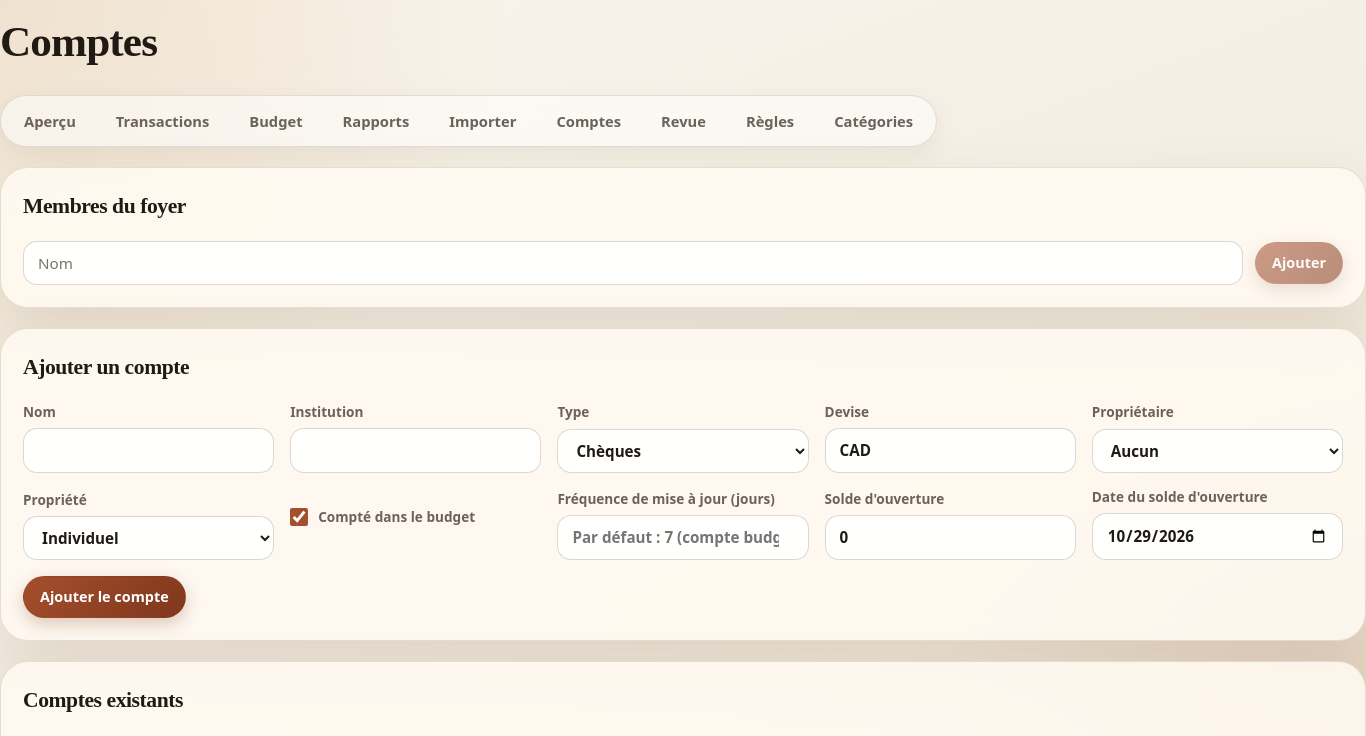
it: FinanceAccountsPage › adds a household member and an account, showing the derived balance
In the field with placeholder "Nom" below "Membres du foyer": (633, 263) [23, 240, 1243, 285], type "Alex"
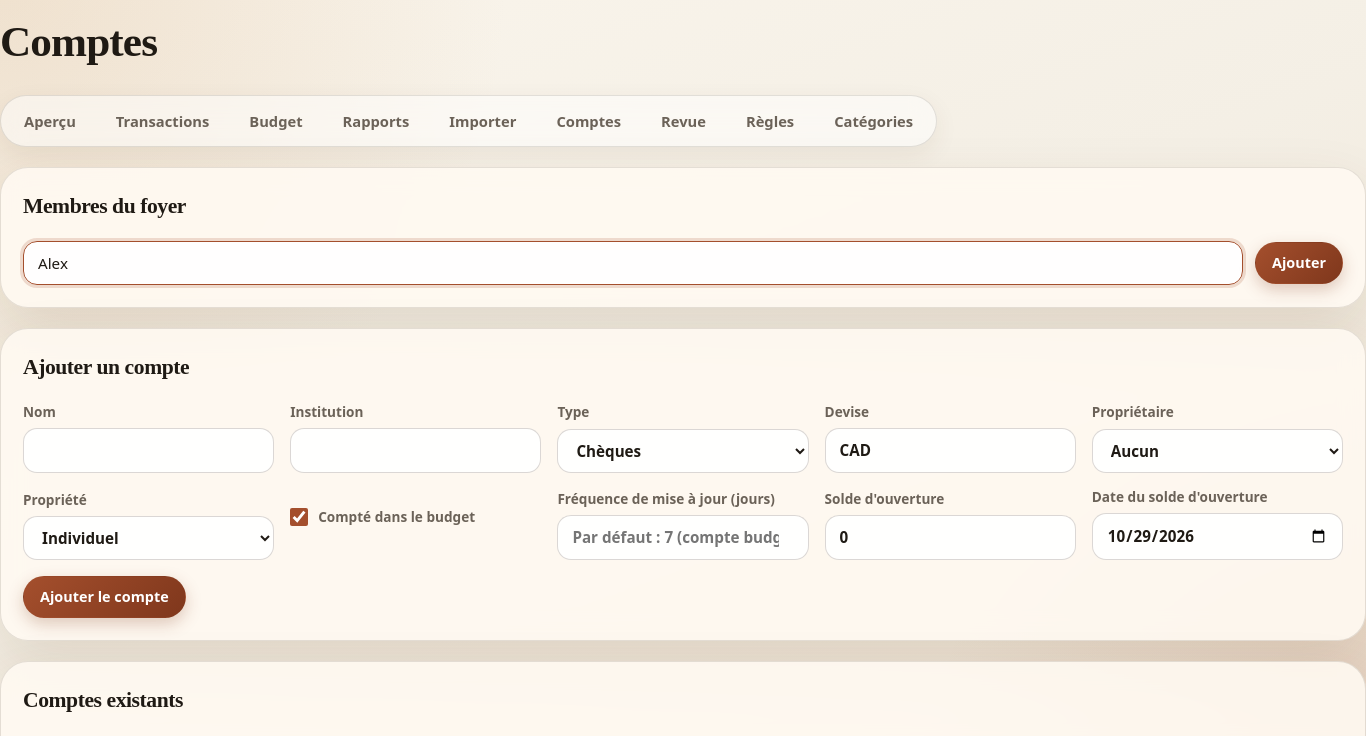
Click the button "Ajouter": (1299, 263) [1255, 242, 1343, 284]
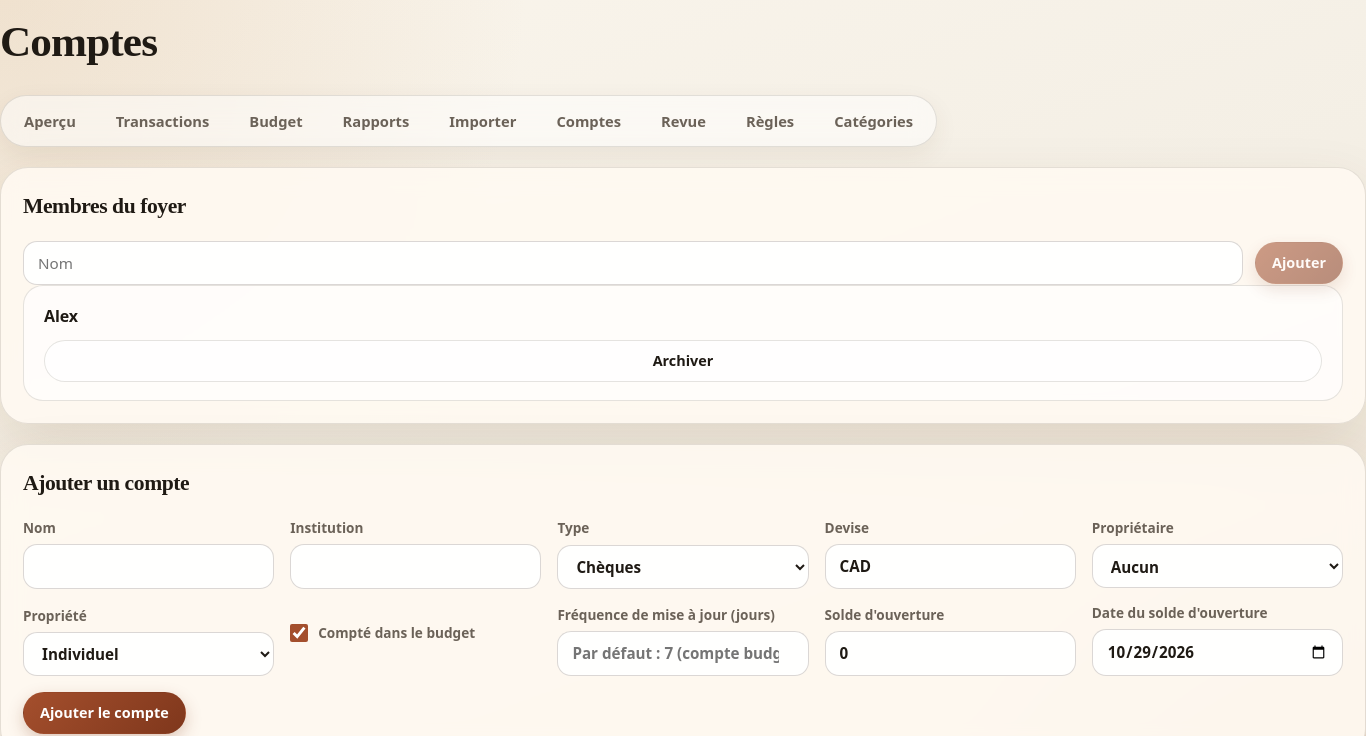
Check: the heading "Alex" is shown, box [44, 305, 78, 327]
In the field labelled "Nom" below "Institution": (149, 566) [23, 544, 274, 588], type "Compte chèques"
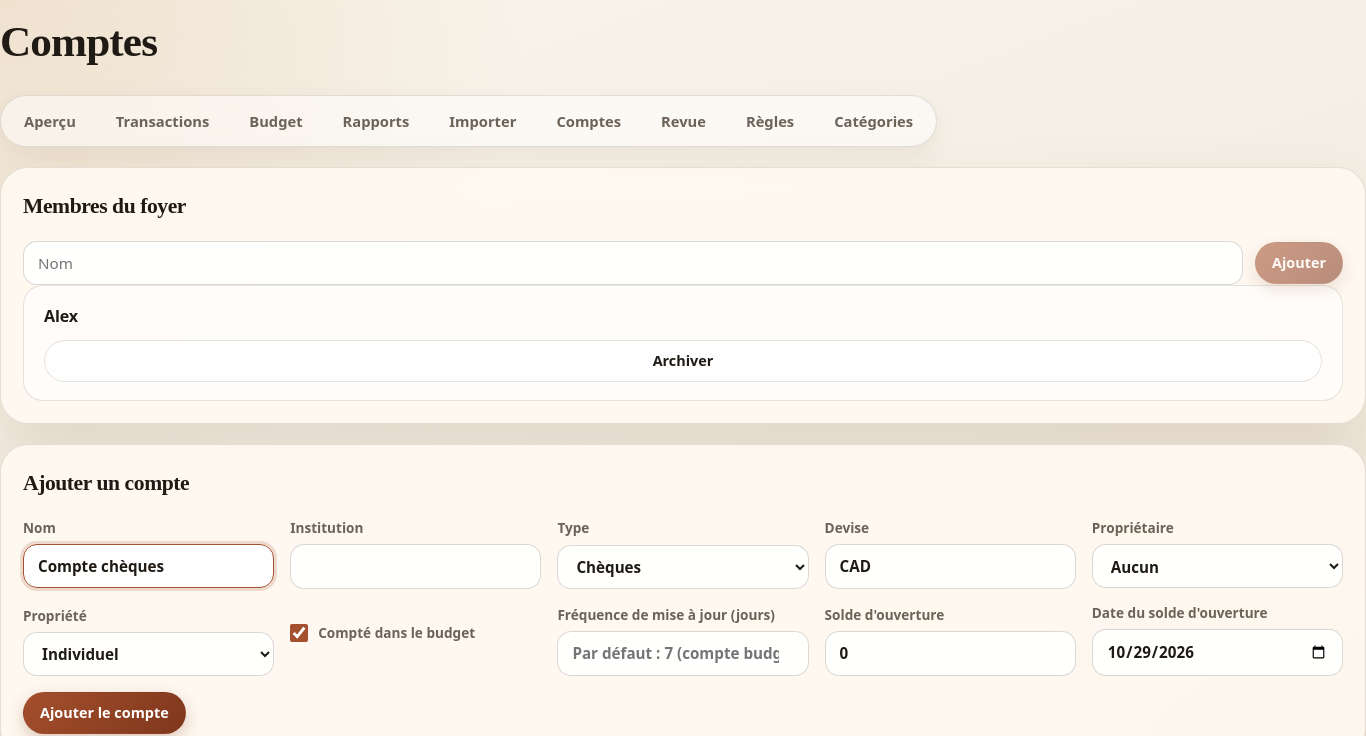
Click the button "Ajouter le compte": (104, 712) [23, 692, 186, 733]
(page scrolled)
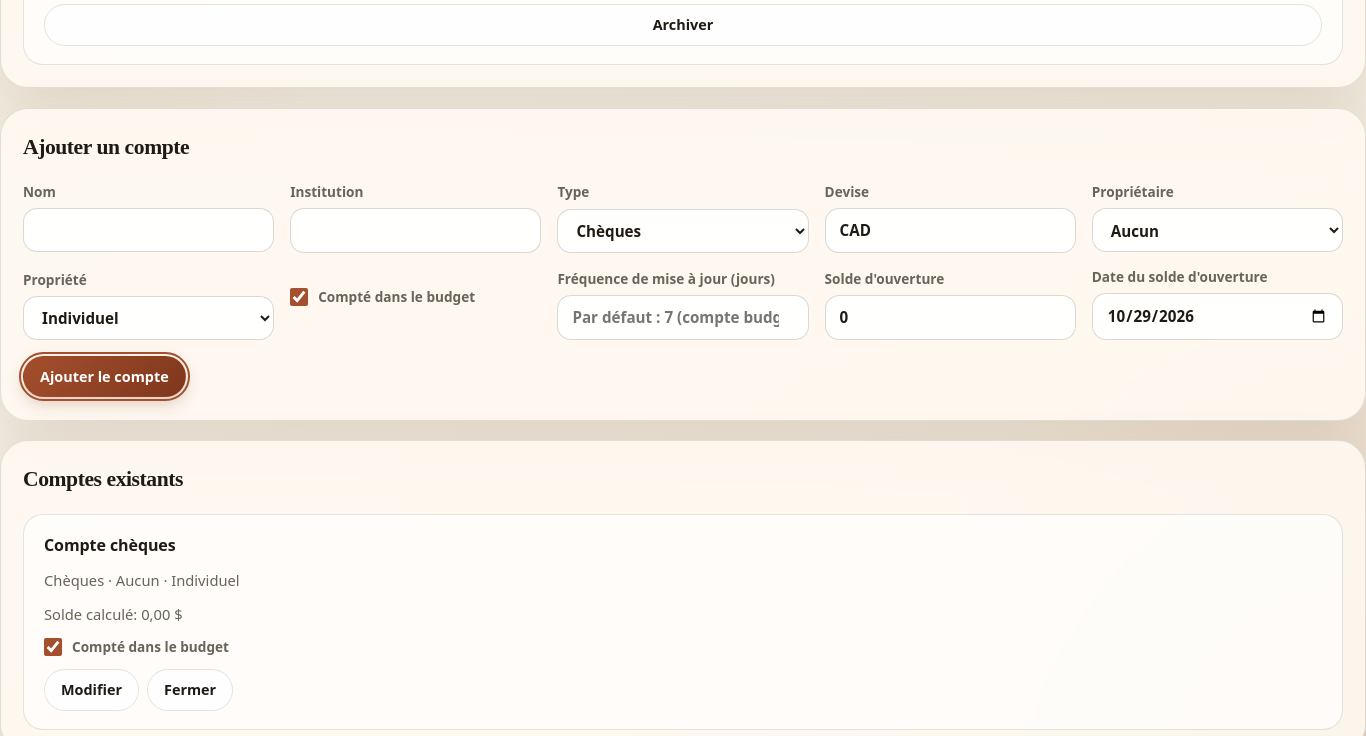
Check: the heading "Compte chèques" is shown, box [44, 534, 176, 556]
Check: the text "Solde calculé: 0,00 $" is shown, box [44, 604, 183, 624]
